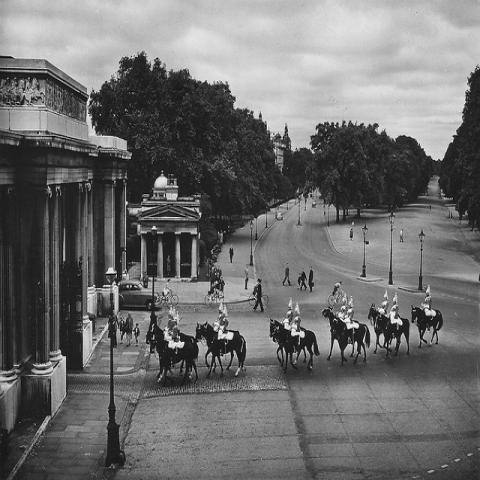car: (118, 278, 162, 312), (276, 212, 283, 221), (161, 277, 166, 281)
